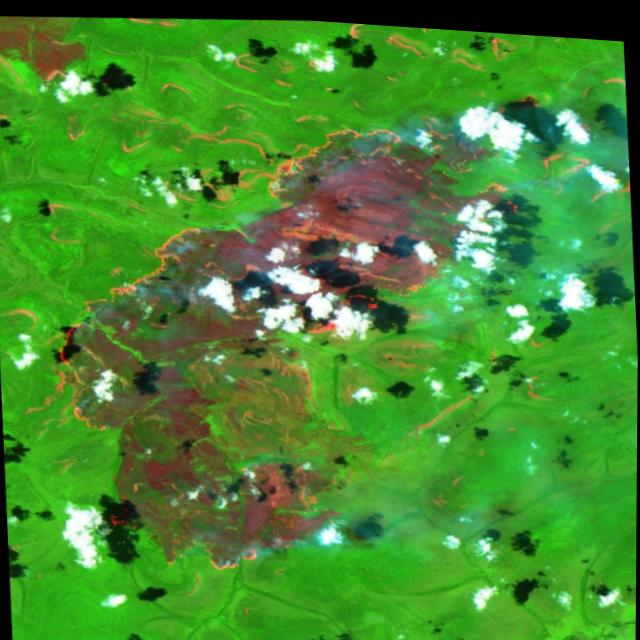fire: (23, 76, 549, 463), (62, 441, 371, 595)
